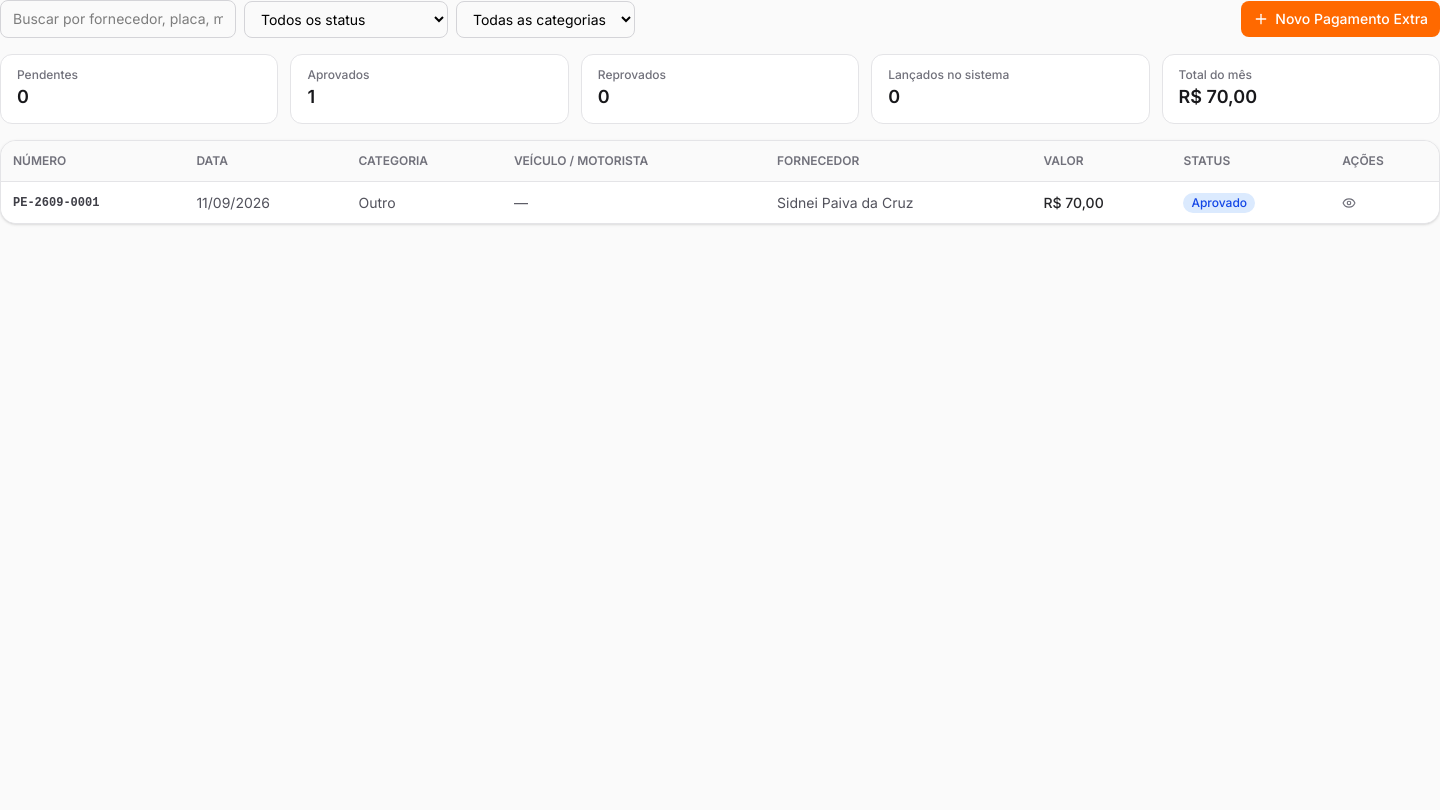
Test: ExtraPaymentsTab — cancelamento › aprovador vê botão Cancelar pagamento no detalhe
Click the button titled "Visualizar": {"x": 1349, "y": 202} [1342,196,1356,210]
(page scrolled)
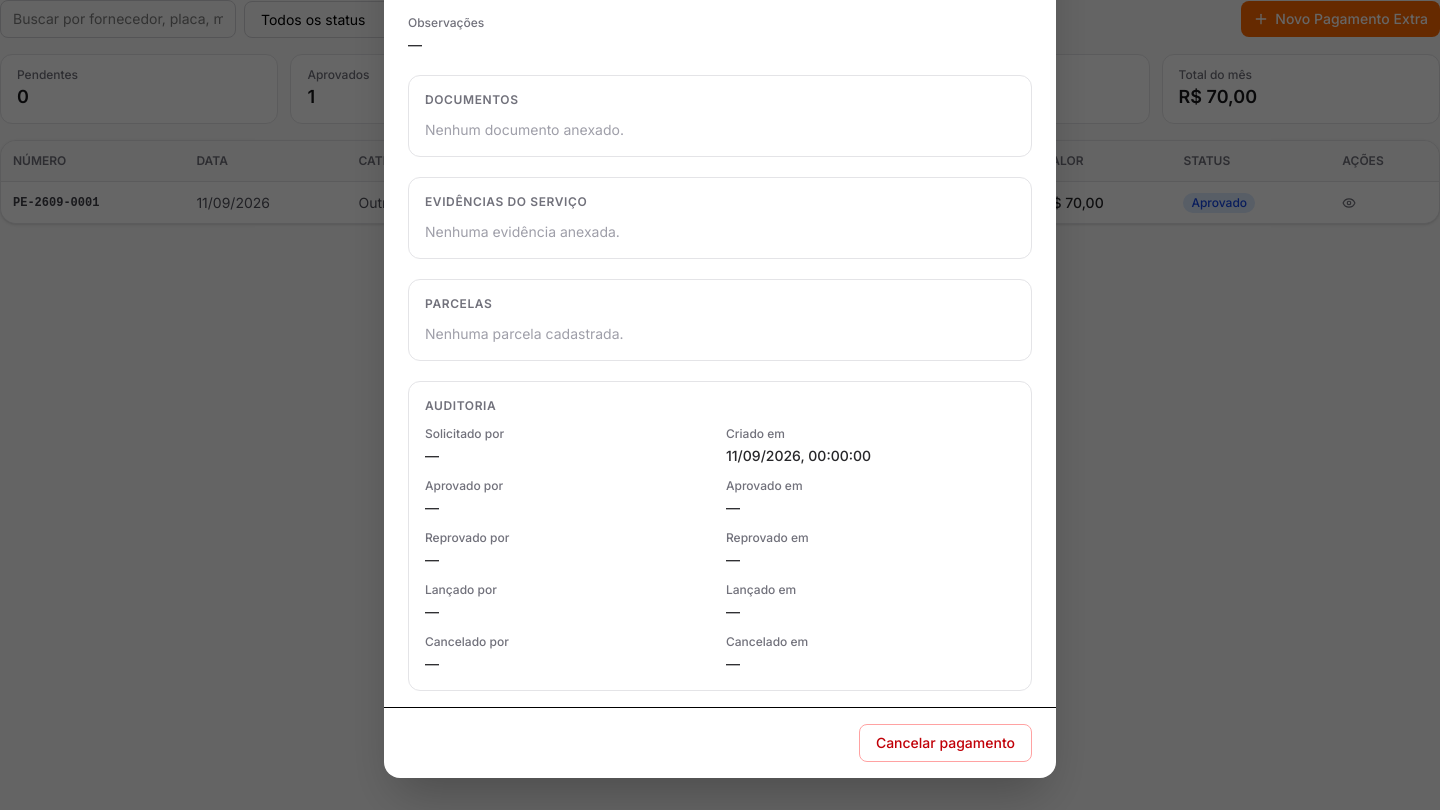
expect the button "Cancelar pagamento" is shown: met, box [859,724,1032,762]
